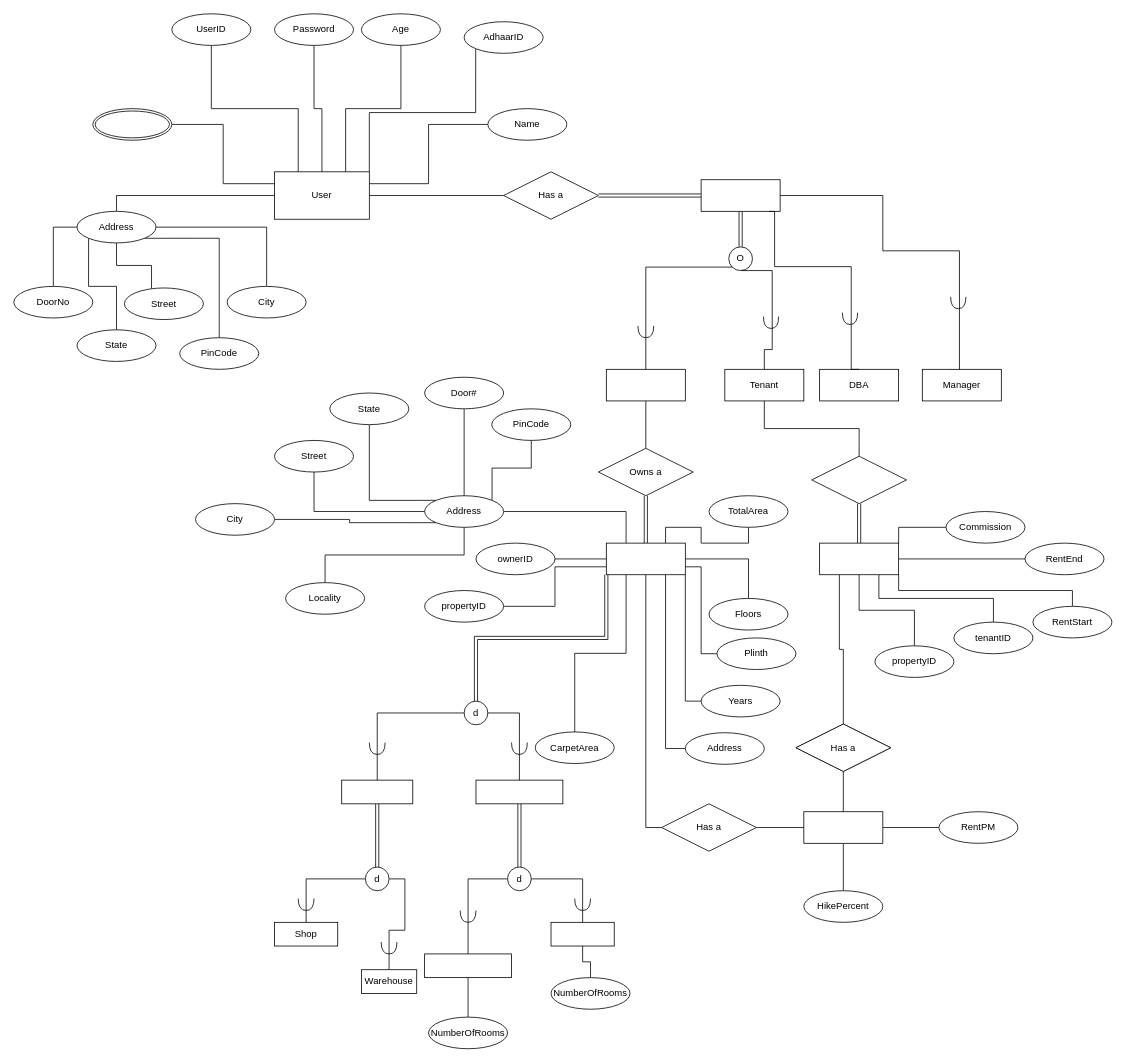
Some shapes in this 1126 by 1063 pixel diagram are drawn without their labels. Each missing label, with the box of its shape:
Commercial: (341, 779, 413, 804)
Flat: (550, 922, 614, 946)
IndependentHouse: (424, 953, 512, 978)
Owner: (606, 369, 685, 401)
Phone: (92, 108, 172, 140)
Price: (803, 811, 883, 843)
Property: (606, 542, 685, 575)
Rent: (819, 542, 899, 575)
Residential: (475, 779, 563, 804)
Stays in a: (811, 455, 907, 504)
UserType: (700, 179, 780, 211)
